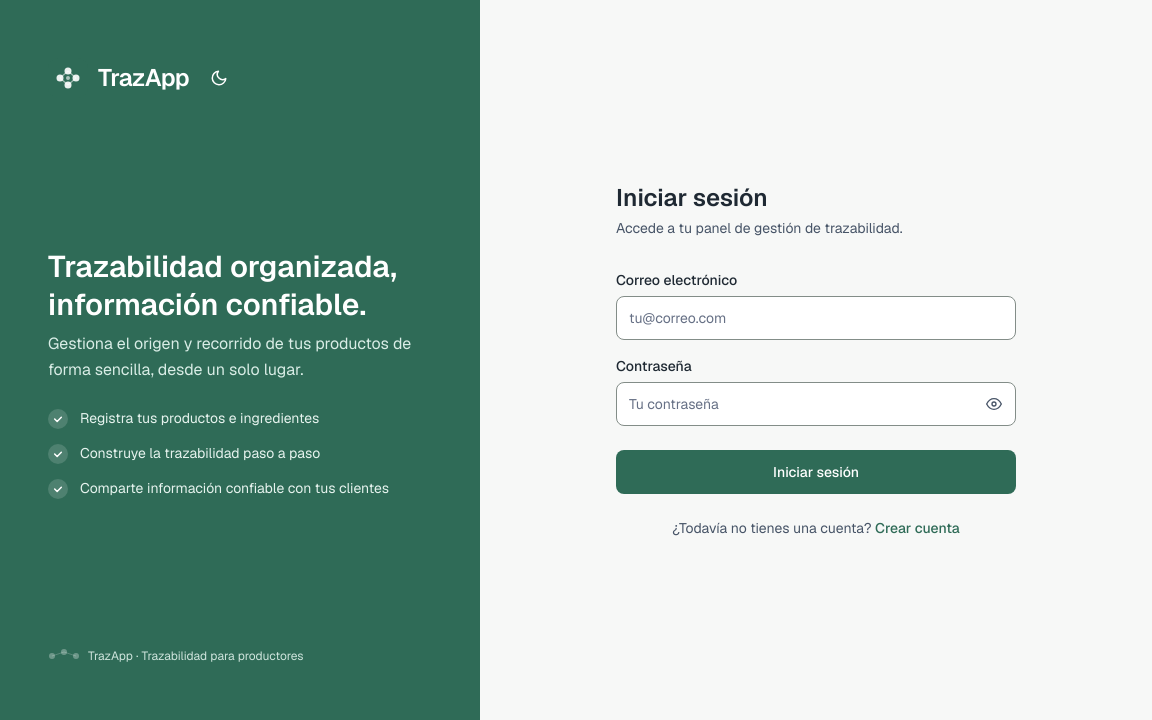
it: Login HU12 › valida campos obligatorios
Check: the heading "Iniciar sesión" is shown, box [616,182,768,213]
Click the button "Iniciar sesión": (816, 472) [616,450,1016,494]
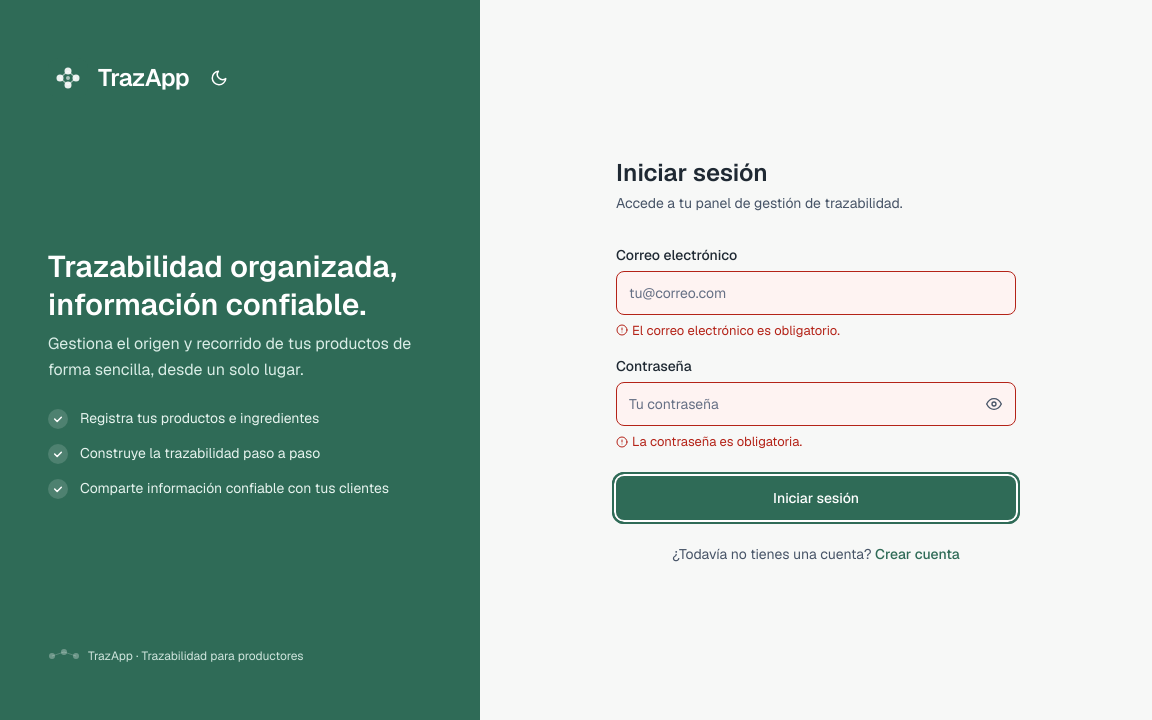
Check: the text "El correo electrónico es obligatorio." is shown, box [616,322,840,338]
Check: the text "La contraseña es obligatoria." is shown, box [616,433,802,450]
